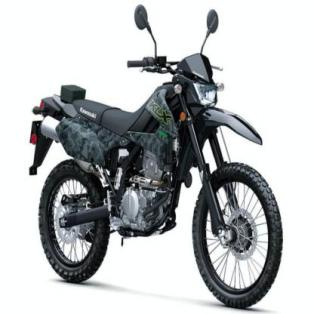Motocicleta: (22, 0, 285, 309)
